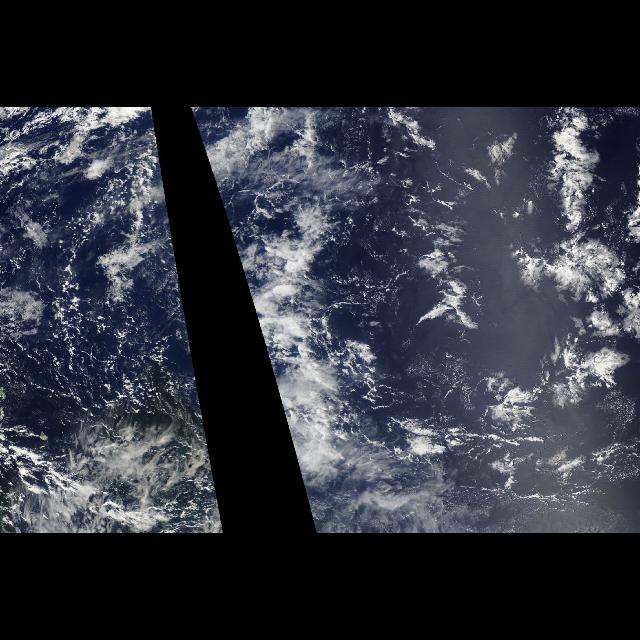Fish: (522, 142, 638, 398)
Gravel: (3, 120, 185, 438)
